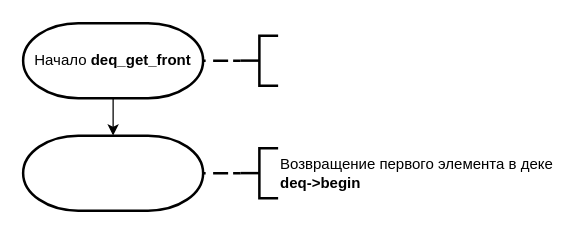
The diagram is 574 pixels wide and 233 high, and some of its shapes have lost their labels. The box of each missing label's shape, as (x1, y1, x2, y2) in pixels:
deq - список: (239, 34, 279, 86)
Конец deq_get_front: (21, 134, 204, 211)
